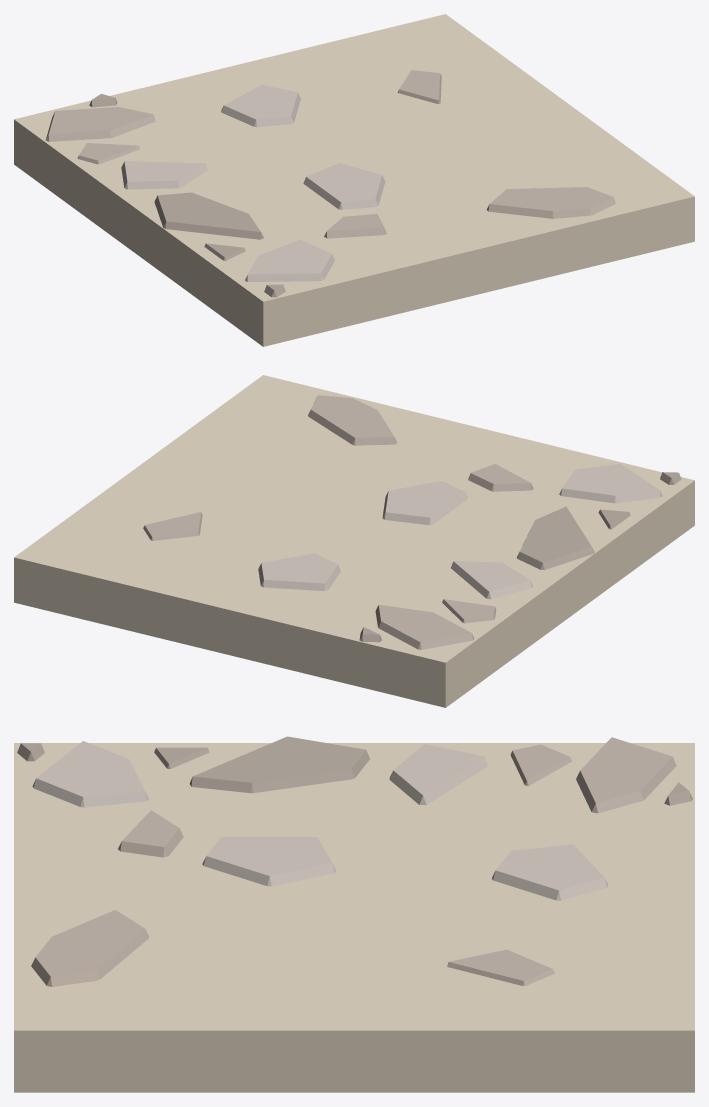
Rendered from object1_136-col.gltf.
3 views of the same model, one above another, from view 1: azimuth 30°, elevation 25°; view 2: azimuth 150°, elevation 25°; view 3: azimuth 270°, elevation 25° (orthographic). The views are drawn at different scales.
Visible parts, largest first — view 1: object1.136-col; view 2: object1.136-col; view 3: object1.136-col.
Part boxes in pixels (bbox=[...]): object1.136-col: bbox=[14, 14, 694, 346]; object1.136-col: bbox=[14, 375, 694, 707]; object1.136-col: bbox=[14, 736, 694, 1092].
Size of the model in its own units: 2 by 0.2281 by 2.
